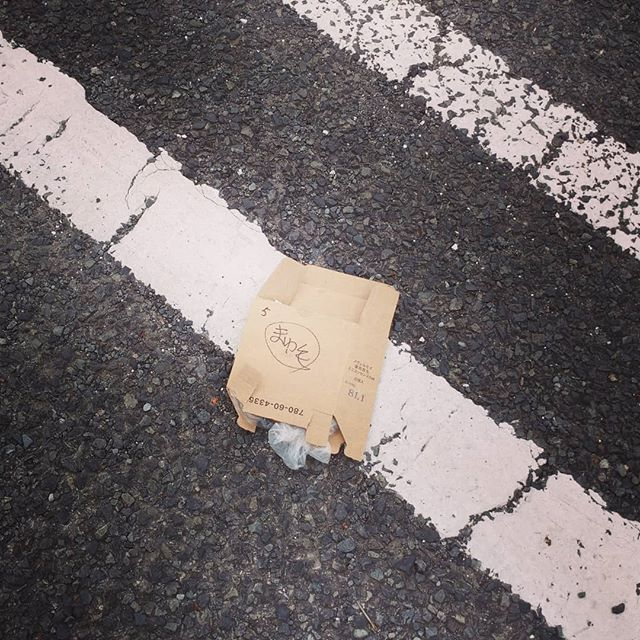trash: (214, 254, 411, 469)
